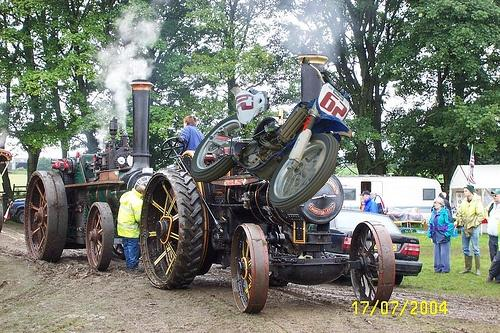tampered: (192, 58, 352, 210)
